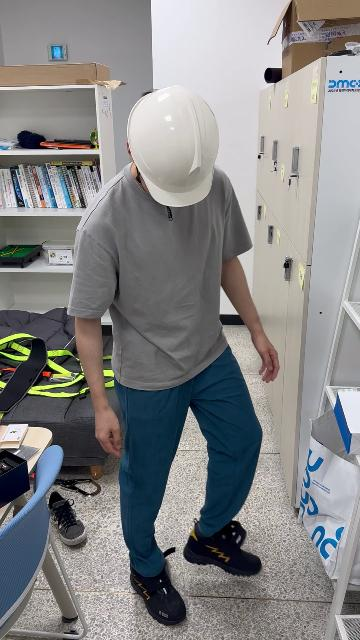helmet_worn: (125, 84, 220, 208)
shoe_not_worn: (47, 490, 87, 545)
shoe_worn: (183, 519, 259, 576), (130, 553, 188, 626)
vest_not_worn: (81, 185, 237, 379)
